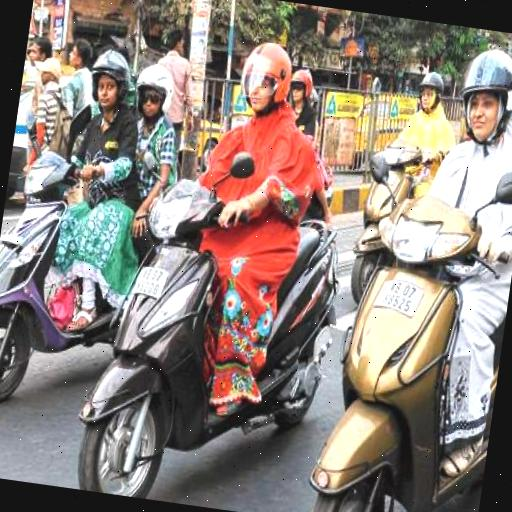helmet: (110, 4, 339, 438), (322, 31, 512, 512), (0, 29, 153, 394), (362, 54, 462, 207)
